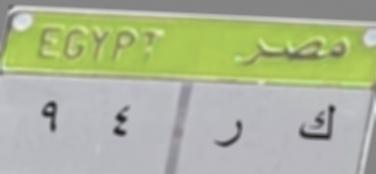4: (106, 98, 139, 154)
9: (36, 91, 64, 144)
kaaf: (293, 94, 338, 156)
raa: (212, 114, 247, 158)
